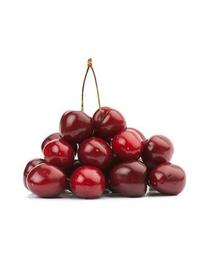cherry: (108, 160, 147, 196), (28, 162, 65, 198), (68, 165, 106, 199), (148, 162, 185, 195), (60, 111, 94, 142), (91, 108, 126, 138), (109, 128, 142, 159), (143, 134, 174, 165), (79, 138, 111, 167), (43, 140, 74, 167)
